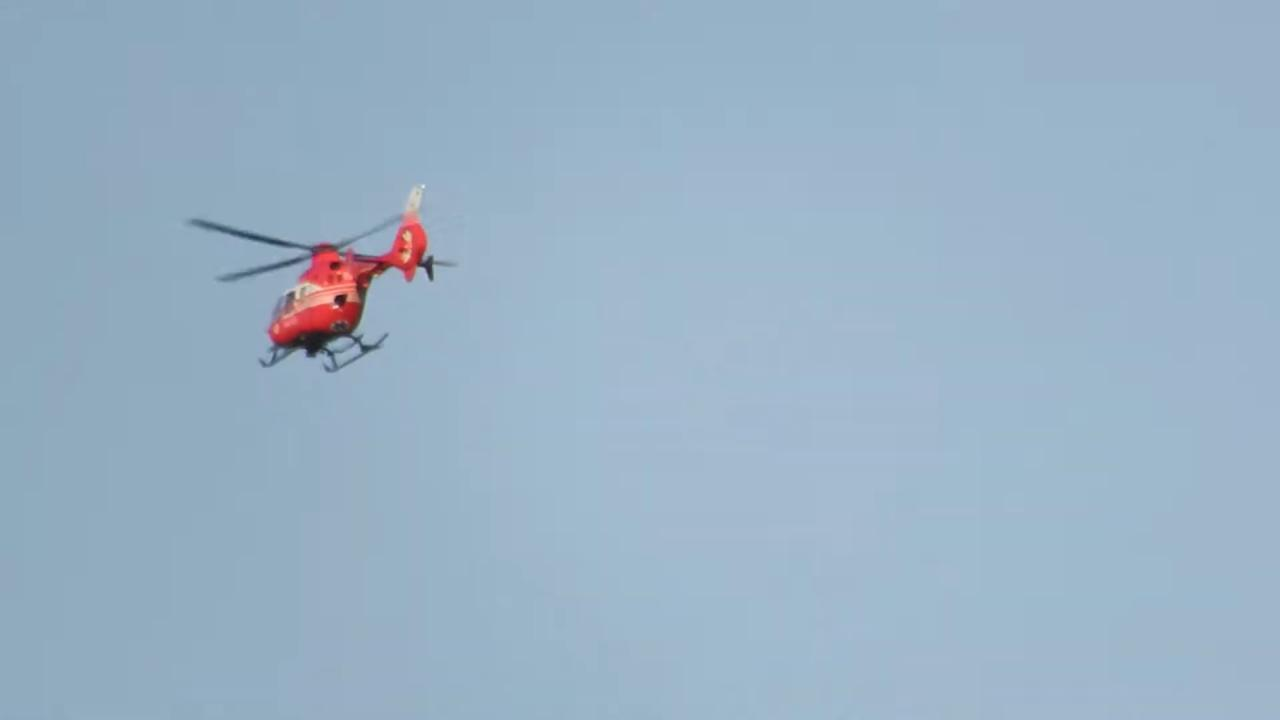Helicopter: (172, 172, 467, 384)
